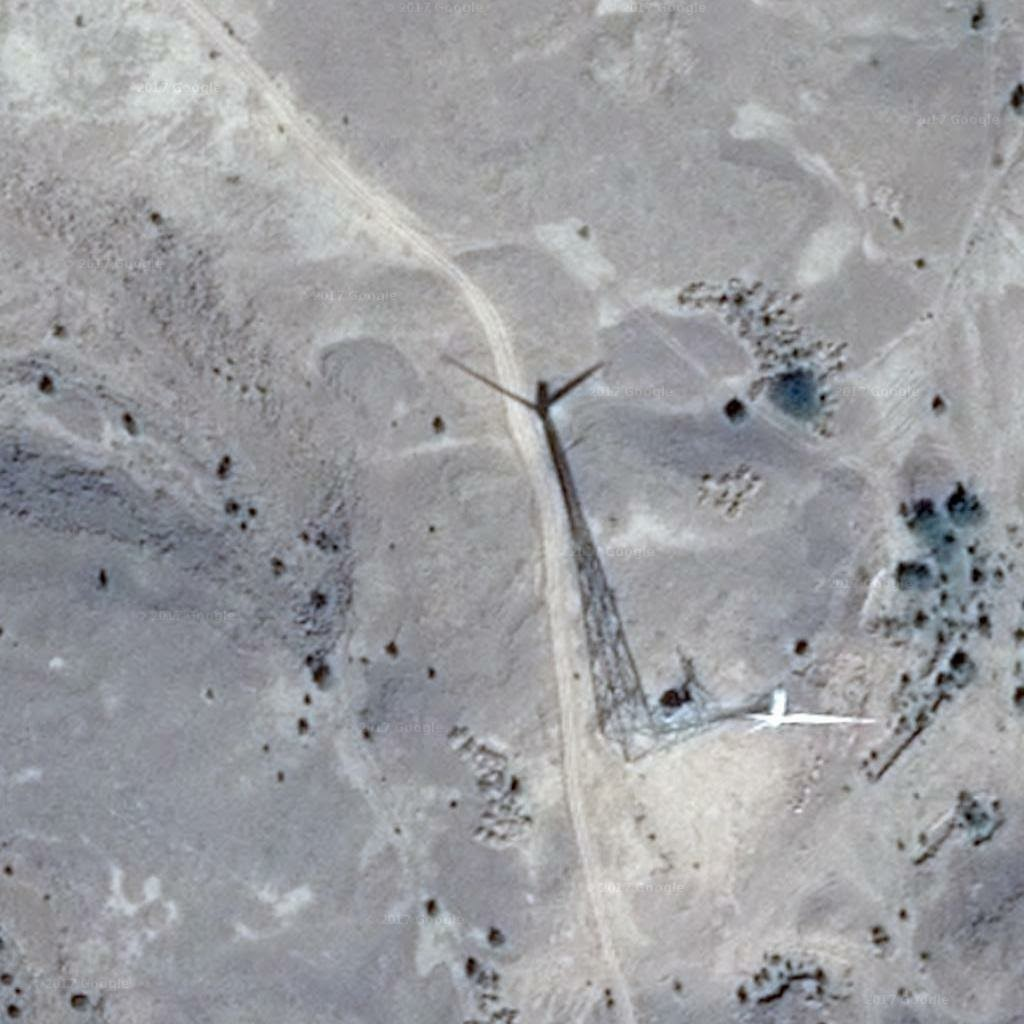Windmill: (440, 347, 622, 599)
